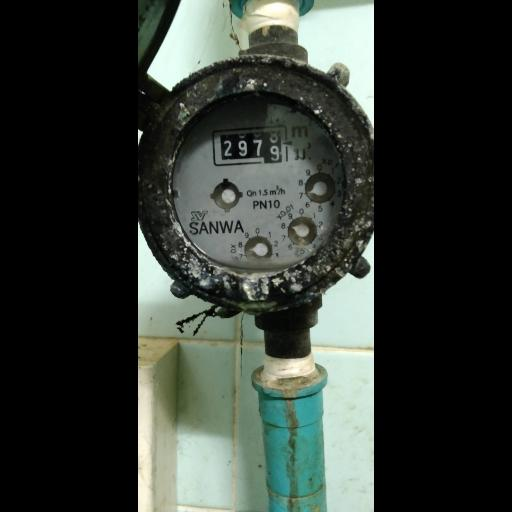2: (221, 133, 236, 159)
7: (251, 132, 265, 158)
8: (266, 131, 283, 164)
9: (235, 132, 250, 159)
border_water_meter_number: (210, 124, 288, 167)
